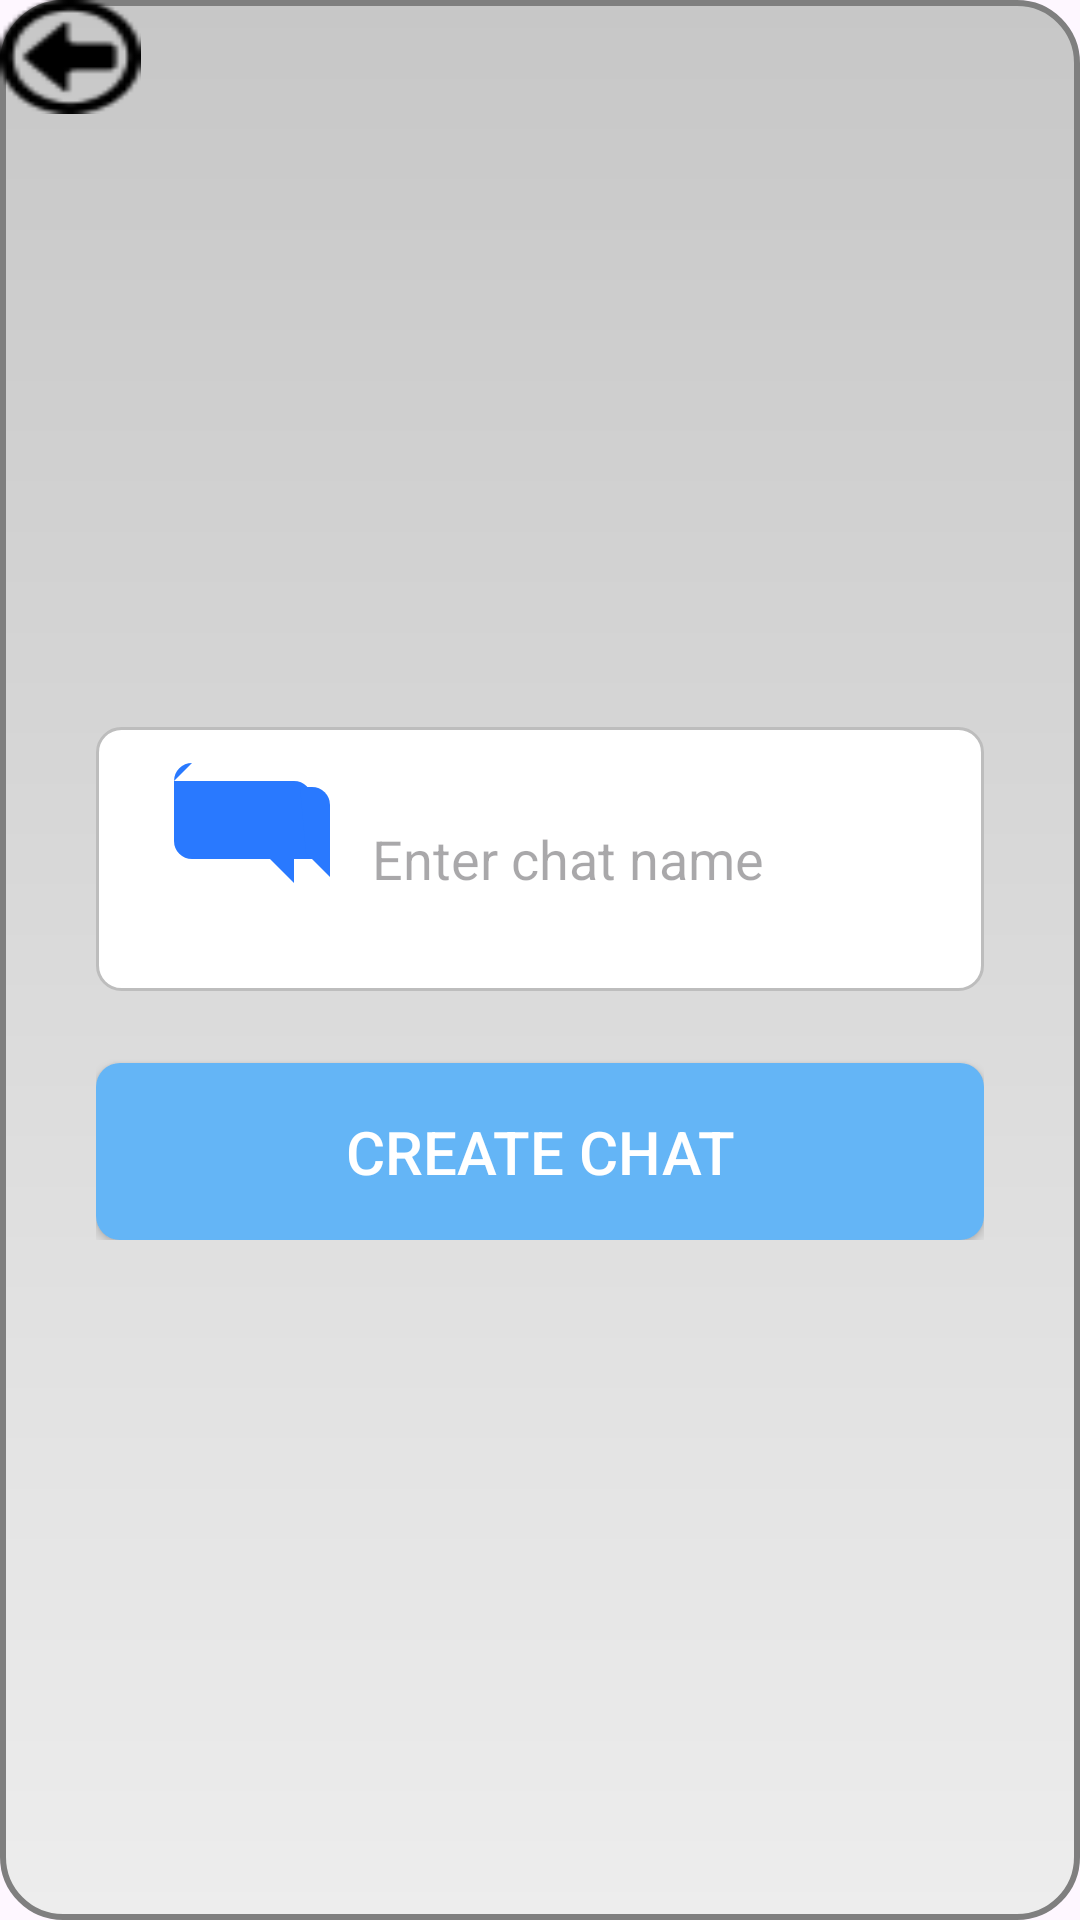

Screen size 1080x1920. Icon name, then its box in pixels as (x1, y1, x2, y2):
leave activity: (0, 0, 141, 114)
